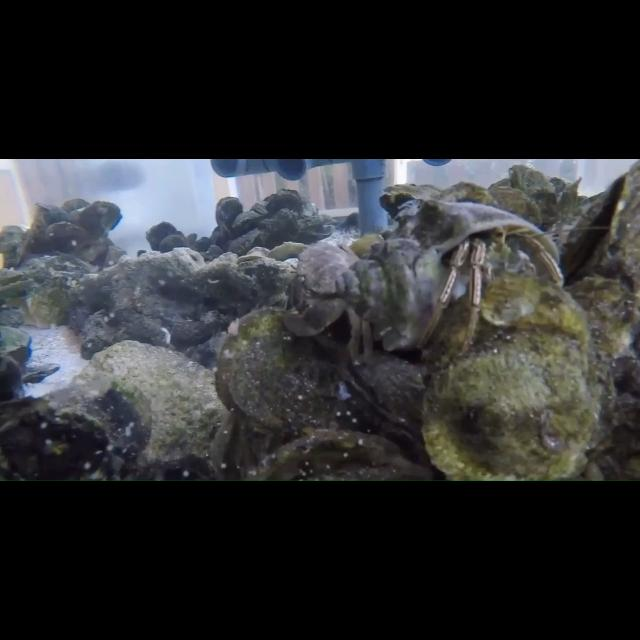Oyster-Closed: (424, 276, 602, 482), (213, 304, 341, 432), (0, 376, 152, 480), (324, 326, 426, 432), (567, 176, 625, 280), (566, 276, 636, 362), (509, 166, 558, 222), (489, 185, 543, 229), (380, 183, 444, 217), (436, 180, 496, 210), (262, 208, 300, 250), (75, 202, 123, 235), (44, 221, 92, 249), (214, 196, 242, 238), (226, 228, 264, 258), (146, 220, 178, 253), (1, 224, 26, 264), (60, 198, 92, 218), (230, 211, 262, 229), (160, 236, 188, 256), (35, 202, 67, 218), (252, 202, 268, 220), (187, 232, 200, 248)
Oyster-Open: (270, 187, 300, 221), (298, 214, 336, 238), (0, 268, 34, 292)
